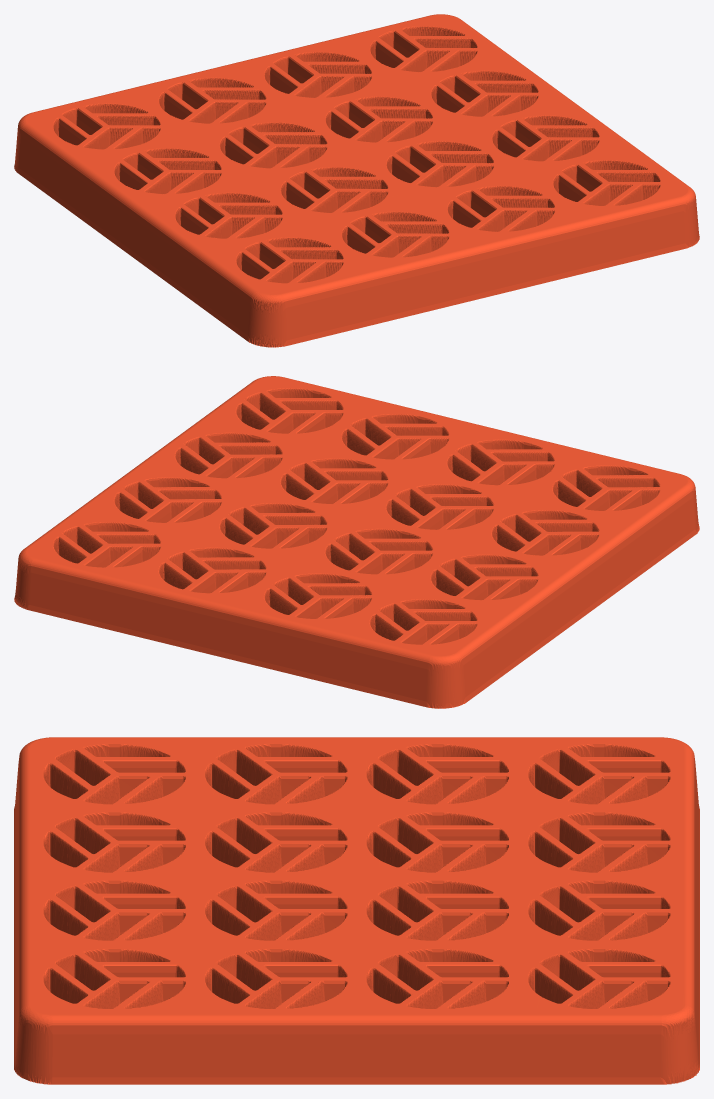
File: mold.glb
3 views of the same model, one above another, from view 1: azimuth 30°, elevation 25°; view 2: azimuth 150°, elevation 25°; view 3: azimuth 270°, elevation 25° (orthographic). The views are drawn at different scales.
Visible parts, largest first — view 1: geometry_0; view 2: geometry_0; view 3: geometry_0.
Boxes of the visible parts, x1,y1,x2,y2 form: geometry_0: (14, 14, 699, 347); geometry_0: (14, 376, 699, 708); geometry_0: (14, 737, 699, 1084).
Bounding box in the file's own units: 0.1569 × 0.0159 × 0.1569.
